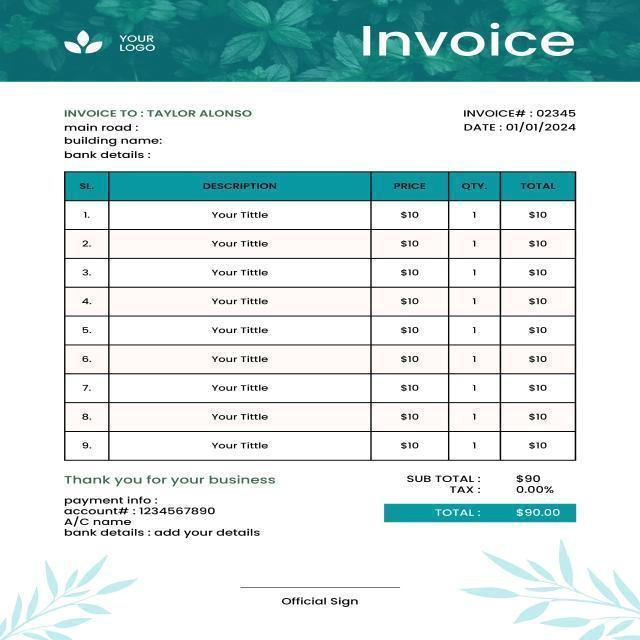paragraph: (336, 9, 588, 72), (373, 468, 605, 534), (41, 101, 270, 164), (233, 557, 412, 619), (61, 492, 273, 538), (426, 101, 594, 139), (59, 467, 284, 488), (47, 7, 106, 67), (117, 17, 167, 66)
table: (59, 172, 585, 450)
